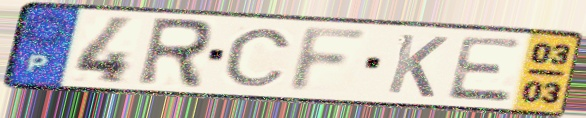4: (71, 15, 139, 86)
C: (220, 26, 295, 88)
E: (443, 34, 527, 104)
F: (283, 25, 376, 96)
K: (383, 31, 452, 100)
R: (132, 16, 216, 92)
